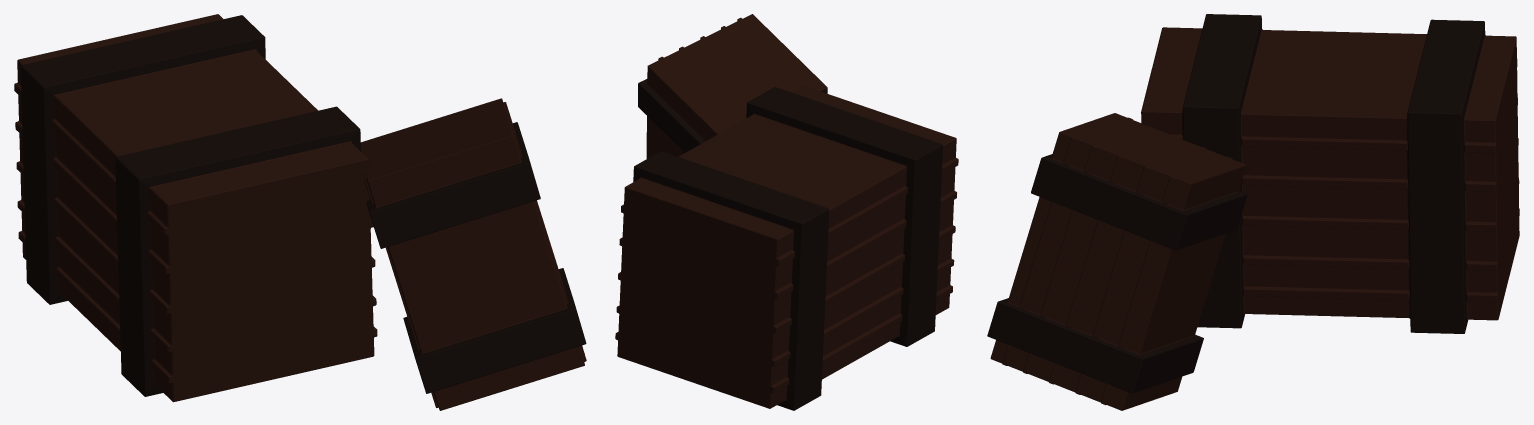
File: caisses_02.FBX
3 views of the same model, side by side, from view 1: azimuth 30°, elevation 25°; view 2: azimuth 150°, elevation 25°; view 3: azimuth 270°, elevation 25° (orthographic). The views are drawn at different scales.
Parts seen in each view (by area): view 1: Box138; view 2: Box138; view 3: Box138.
Part boxes in pixels (x1,y1,x2,y2): Box138: [14, 14, 586, 410]; Box138: [615, 14, 958, 410]; Box138: [987, 14, 1519, 410].
Bounding box in the file's own units: 122 × 144 × 81.19.
